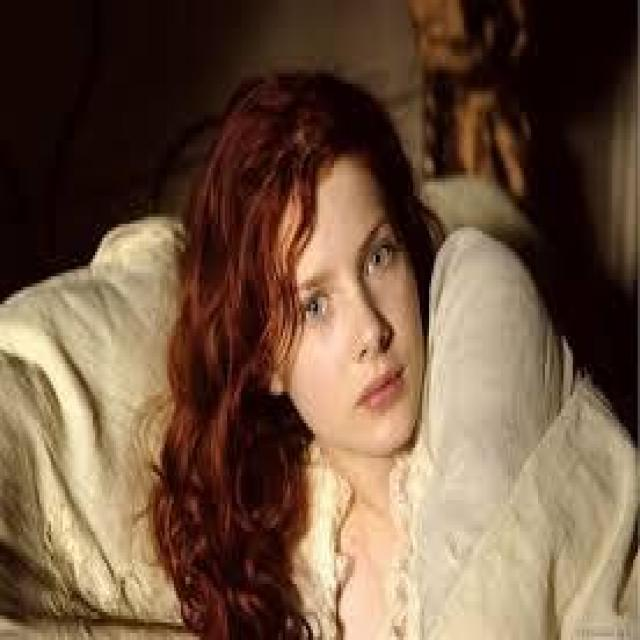person: (116, 66, 638, 630)
